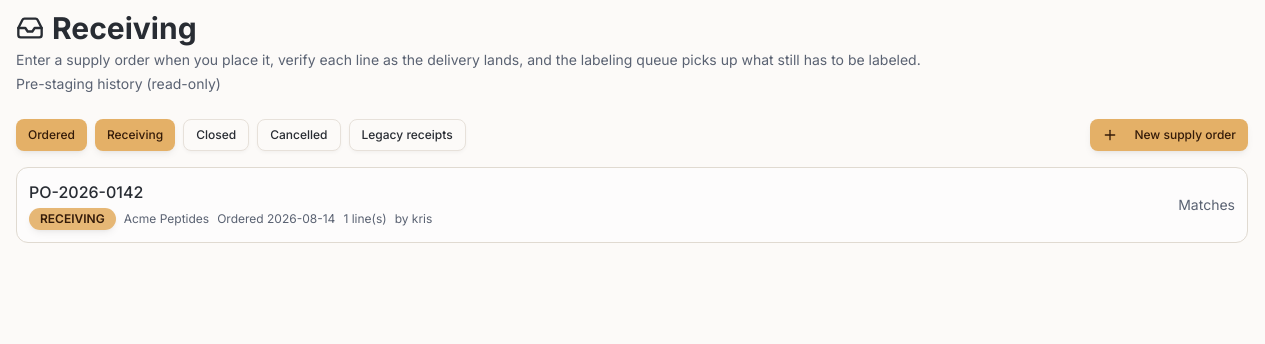
Test: QA-3: the Legacy chip asks its OWN request, and the two answers are merged
Expected: the link "PO-2026-0142" is shown, [29, 182, 143, 202]
Click the button "Legacy receipts" at (407, 135), box [348, 119, 466, 151]
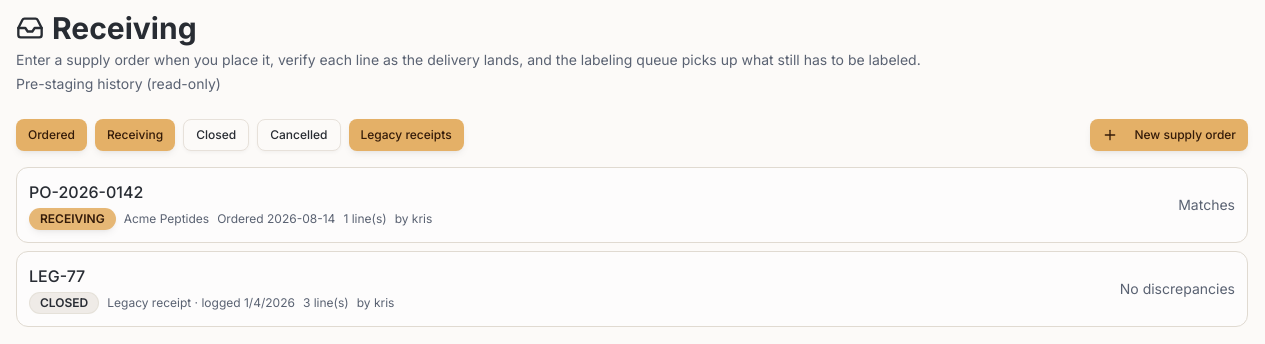
Expected: the link "PO-2026-0142" is shown, [29, 182, 143, 202]
Expected: the link "LEG-77" is shown, [29, 266, 85, 286]
